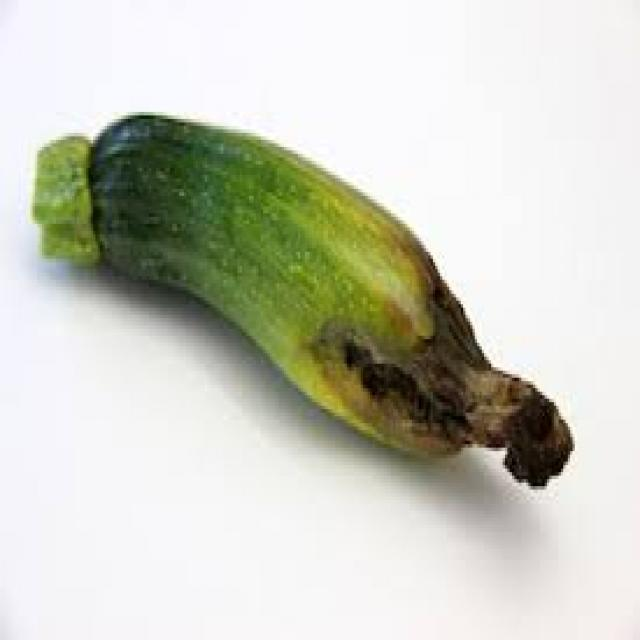organic waste: (30, 109, 573, 486)
